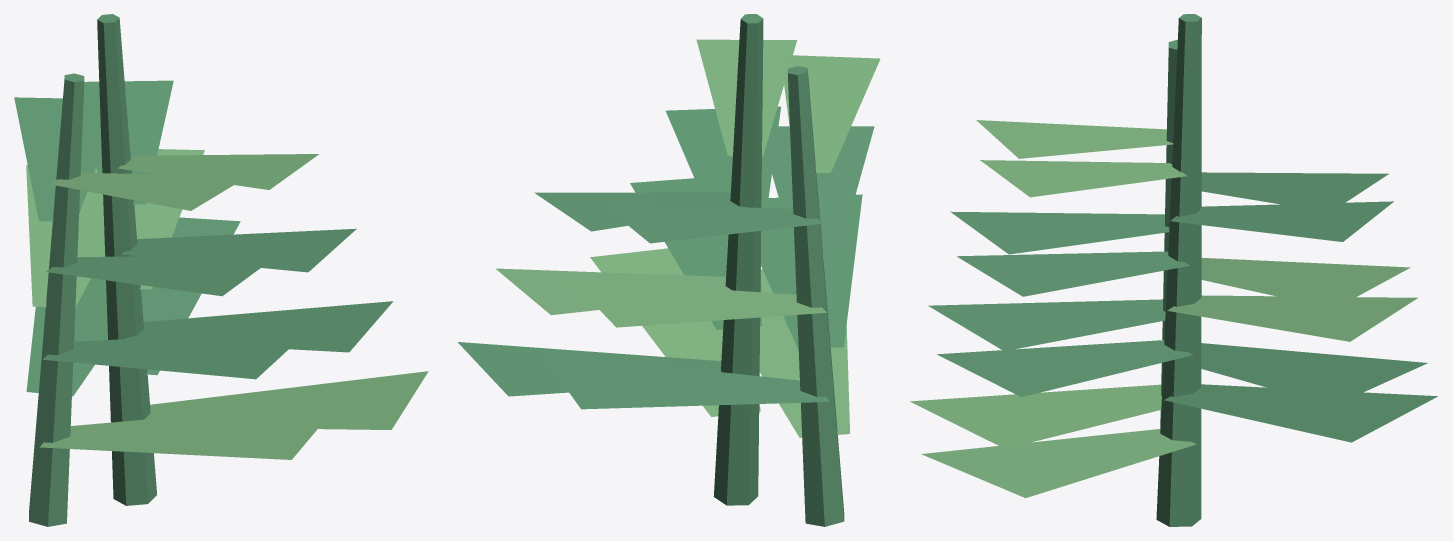
File: myb_forest_fern_c.fbx
3 renders of one model, left to right at view 1: azimuth 30°, elevation 25°; view 2: azimuth 150°, elevation 25°; view 3: azimuth 270°, elevation 25°, orthographic. The views are drawn at different scales.
Visible parts, largest first — view 1: myb_forest_fern_c; view 2: myb_forest_fern_c; view 3: myb_forest_fern_c.
Part boxes in pixels (bbox=[...]): myb_forest_fern_c: bbox=[14, 14, 428, 526]; myb_forest_fern_c: bbox=[458, 14, 880, 526]; myb_forest_fern_c: bbox=[910, 14, 1437, 526].
Size of the model in its own units: 0.6691 by 0.9468 by 0.922.
